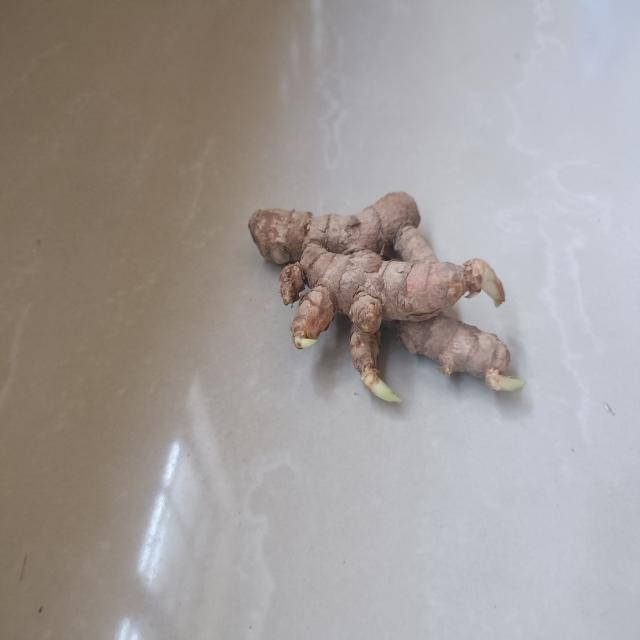ginger: (231, 185, 531, 407)
